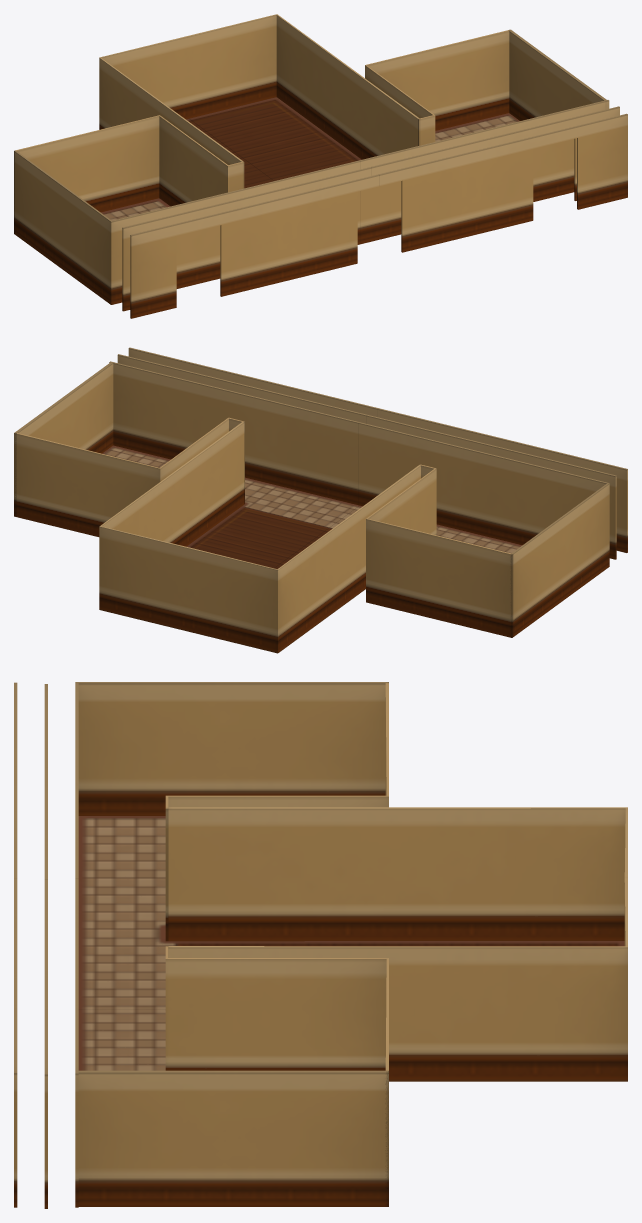
File: Room_04.FBX
3 views of the same model, one above another, from view 1: azimuth 30°, elevation 25°; view 2: azimuth 150°, elevation 25°; view 3: azimuth 270°, elevation 25° (orthographic). The views are drawn at different scales.
Parts seen in each view (by area): view 1: Wall_Door_04_single001, Room4_Wall006, Room4_Wall007, Room4_Wall013, Room4_Wall009, Room4_Floor001, Room4_Wall008, Wall_Door_04_double001, Room4_Wall012; view 2: Room4_Wall013, Room4_Wall006, Room4_Wall007, Room4_Wall009, Room4_Floor001, Room4_Wall008, Wall_Door_04_single001, Wall_Door_04_double001, Room4_Wall012; view 3: Room4_Wall006, Room4_Wall012, Room4_Wall008, Room4_Wall009, Room4_Floor001, Room4_Wall007, Wall_Door_04_single001, Wall_Door_04_double001, Room4_Wall013.
Part boxes in pixels (x1,y1,x2,y2): Wall_Door_04_single001: (130, 113, 627, 318); Room4_Wall006: (99, 14, 419, 164); Room4_Wall007: (14, 115, 244, 234); Room4_Wall013: (112, 100, 609, 304); Room4_Wall009: (365, 29, 510, 145); Room4_Floor001: (101, 97, 519, 220); Room4_Wall008: (14, 150, 112, 304); Wall_Door_04_double001: (122, 106, 619, 311); Room4_Wall012: (508, 29, 606, 120); Room4_Wall013: (109, 361, 607, 545); Room4_Wall006: (99, 422, 420, 653); Room4_Wall007: (366, 464, 513, 637); Room4_Wall009: (14, 417, 244, 536); Room4_Floor001: (102, 445, 521, 569); Room4_Wall008: (510, 483, 609, 637); Wall_Door_04_single001: (128, 347, 627, 552); Wall_Door_04_double001: (117, 354, 616, 559); Room4_Wall012: (14, 361, 113, 516); Room4_Wall006: (168, 807, 627, 1081); Room4_Wall012: (75, 1070, 388, 1206); Room4_Wall008: (75, 682, 388, 815); Room4_Wall009: (165, 946, 388, 1206); Room4_Floor001: (78, 816, 624, 1070); Room4_Wall007: (165, 682, 388, 941); Wall_Door_04_single001: (14, 682, 17, 1207); Wall_Door_04_double001: (44, 684, 47, 1208); Room4_Wall013: (75, 683, 78, 1207).
Size of the model in its own units: 574 by 91.45 by 379.
